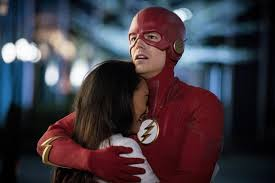Bad: (37, 6, 223, 181)
